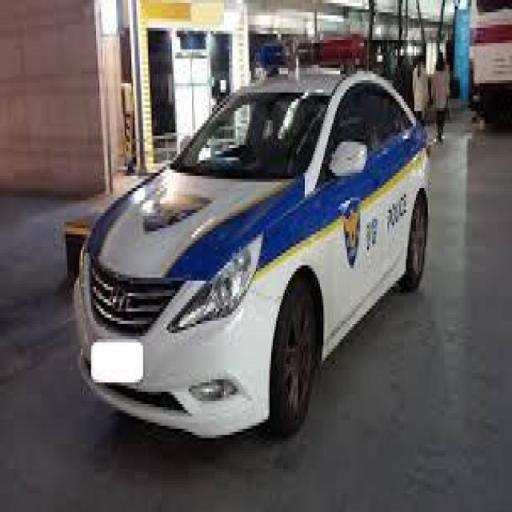Ambulance: (78, 37, 428, 432)
